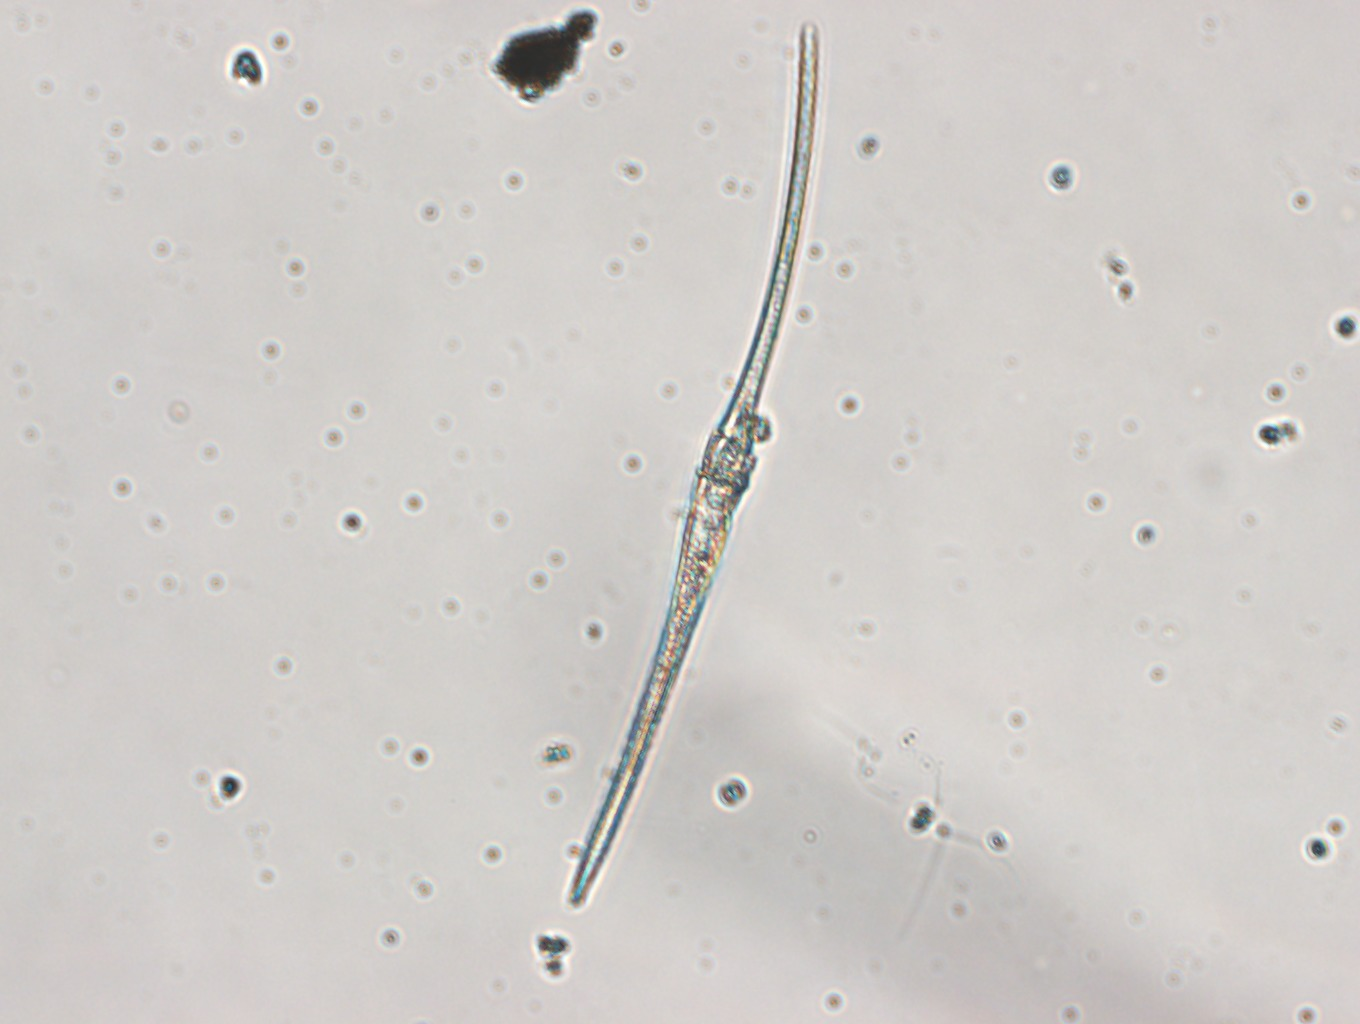ceratium fusus: (562, 17, 824, 914)
